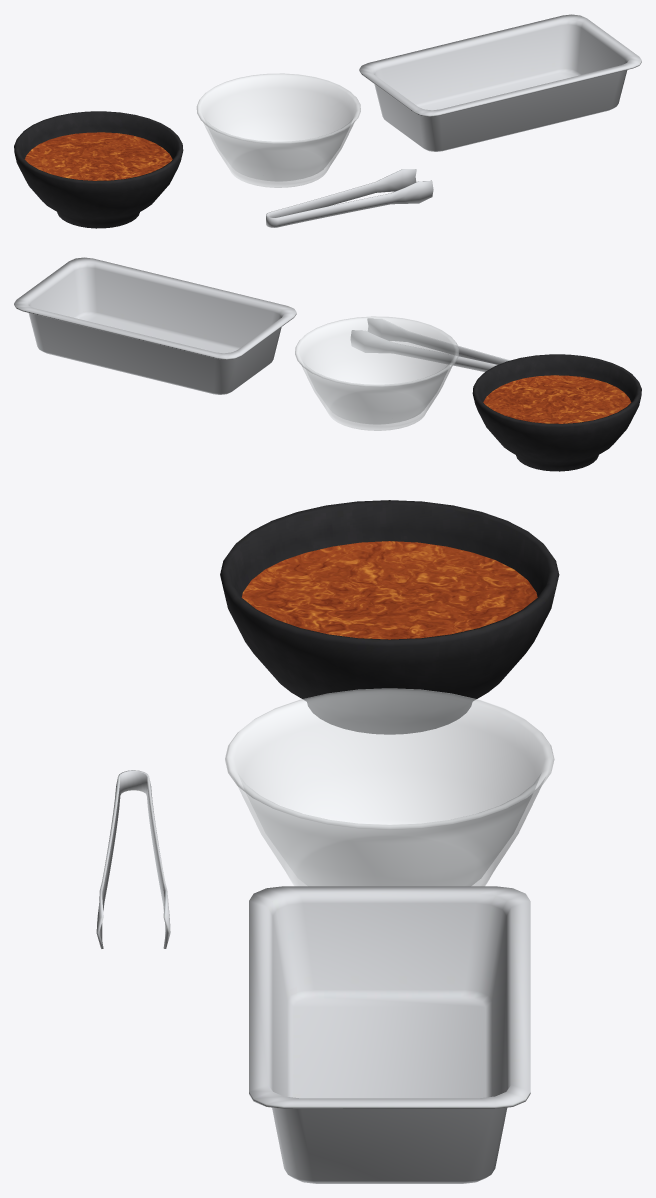
File: Phase0_Props.glb
3 views of the same model, one above another, from view 1: azimuth 30°, elevation 25°; view 2: azimuth 150°, elevation 25°; view 3: azimuth 270°, elevation 25° (orthographic). The views are drawn at different scales.
Visible parts, largest first — view 1: DisplayTray, PickBowl, MalaBowl, MalaBowl_Soup, Tongs; view 2: DisplayTray, PickBowl, MalaBowl, MalaBowl_Soup, Tongs; view 3: DisplayTray, PickBowl, MalaBowl, MalaBowl_Soup, Tongs.
Boxes of the visible parts, bbox=[...] form: DisplayTray: bbox=[359, 14, 641, 151]; PickBowl: bbox=[196, 73, 360, 187]; MalaBowl: bbox=[14, 111, 183, 228]; MalaBowl_Soup: bbox=[24, 132, 172, 180]; Tongs: bbox=[266, 169, 433, 227]; DisplayTray: bbox=[14, 257, 296, 394]; PickBowl: bbox=[295, 316, 459, 430]; MalaBowl: bbox=[472, 354, 641, 471]; MalaBowl_Soup: bbox=[483, 375, 631, 423]; Tongs: bbox=[350, 318, 510, 371]; DisplayTray: bbox=[249, 886, 530, 1183]; PickBowl: bbox=[225, 688, 554, 886]; MalaBowl: bbox=[220, 500, 559, 734]; MalaBowl_Soup: bbox=[241, 541, 537, 639]; Tongs: bbox=[96, 770, 170, 948].
Bounding box in the file's own units: 0.8485 × 0.0891 × 0.2891.
Materials: 5 (4 with a texture image).
